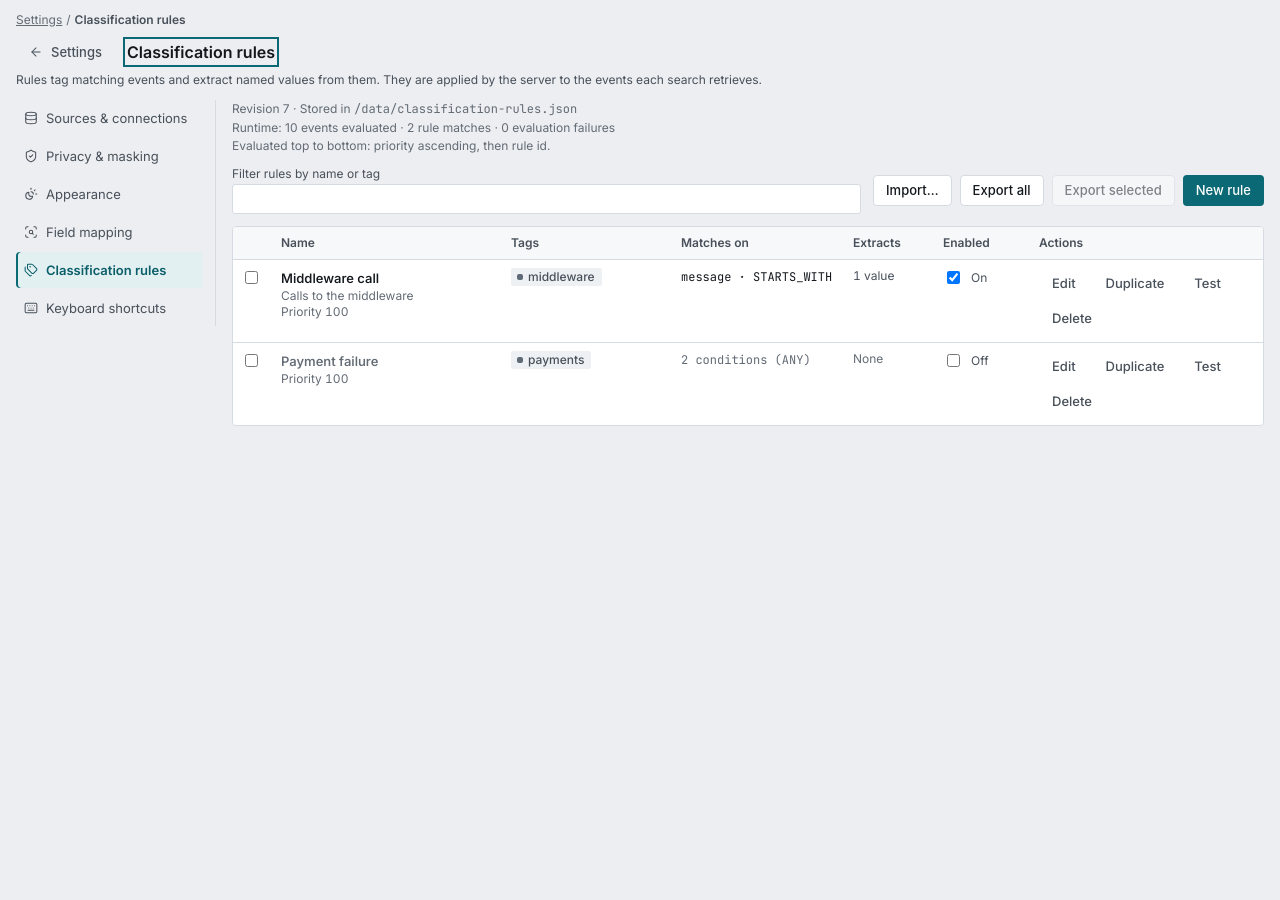
Test: ClassificationRulesWorkspace - list › Duplicate opens the editor prefilled as "Copy of …" without an id, and saving creates a new rule
This screenshot has width=1280, height=900.
Click the button with aria-label "Duplicate Middleware call" at coordinates (1135, 284), box [1093,268,1177,299]
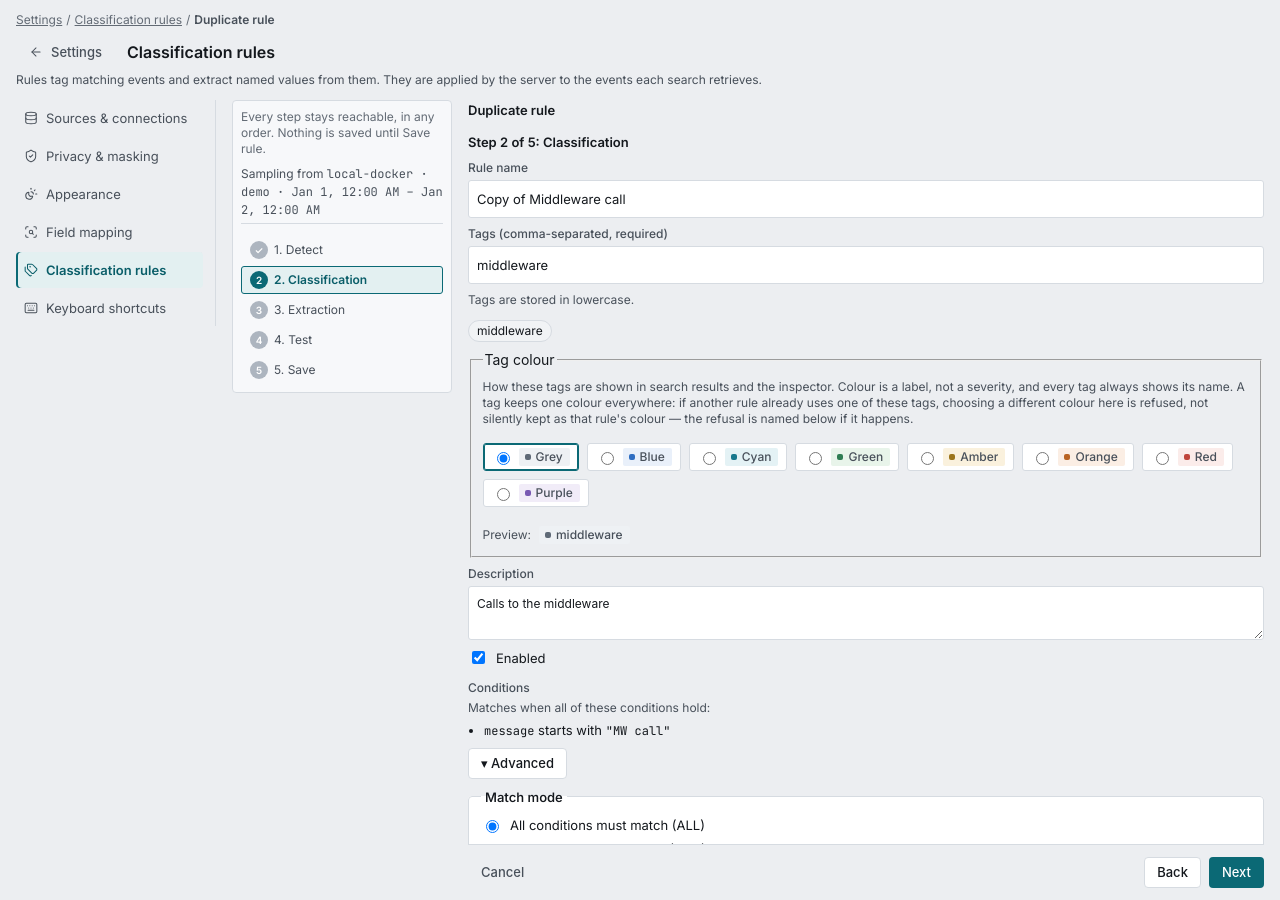
Check: the heading "Duplicate rule" is shown, box [468,102,555,118]
Check: the heading "Step 2 of 5: Classification" is shown, box [468,134,629,150]
Check: the field labelled "Rule name" holds "Copy of Middleware call", box [468,180,1264,218]
Click the button "5 5. Save" at coordinates (342, 370), box [241,356,443,384]
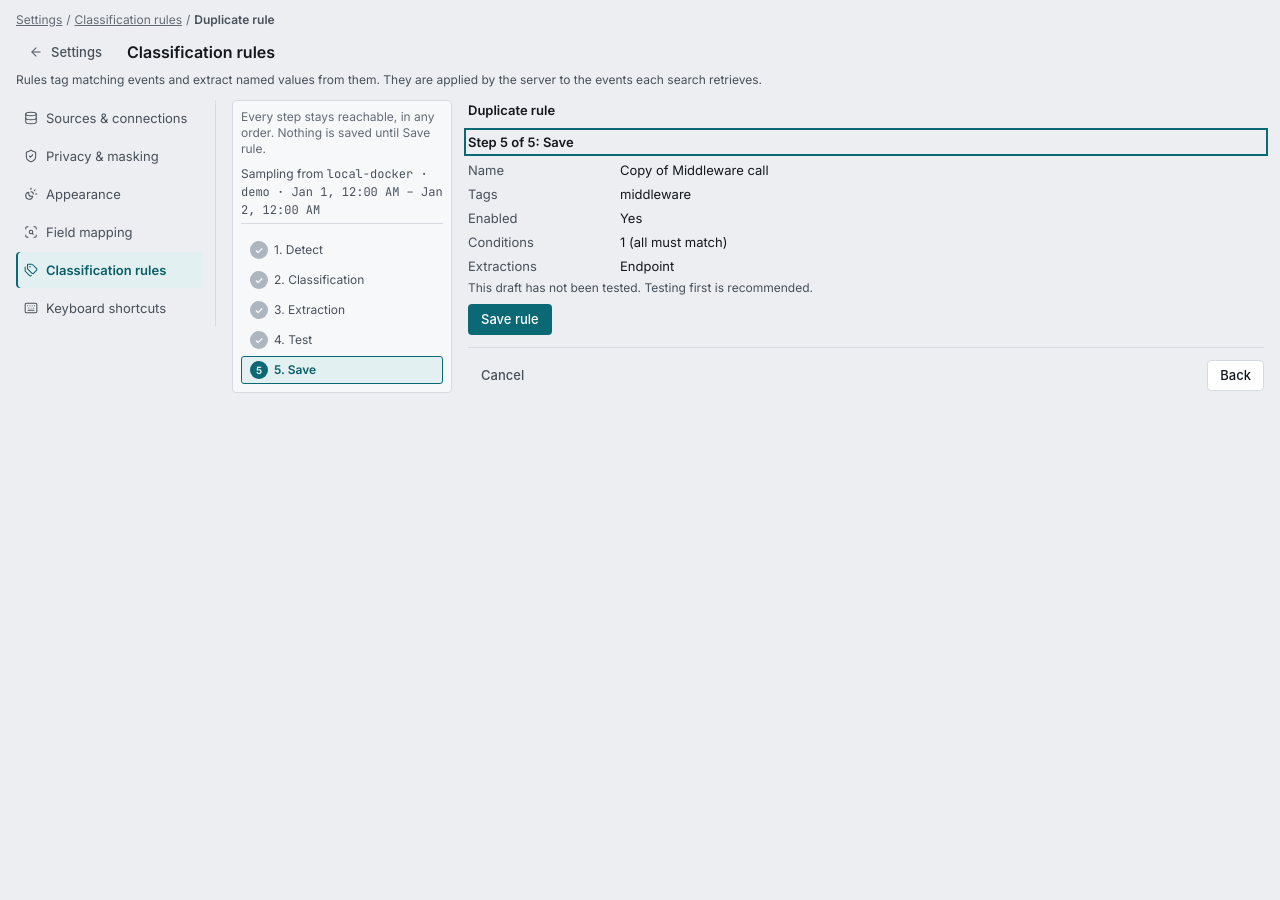
Click the button "Save rule" at coordinates (510, 320), box [468,304,552,335]
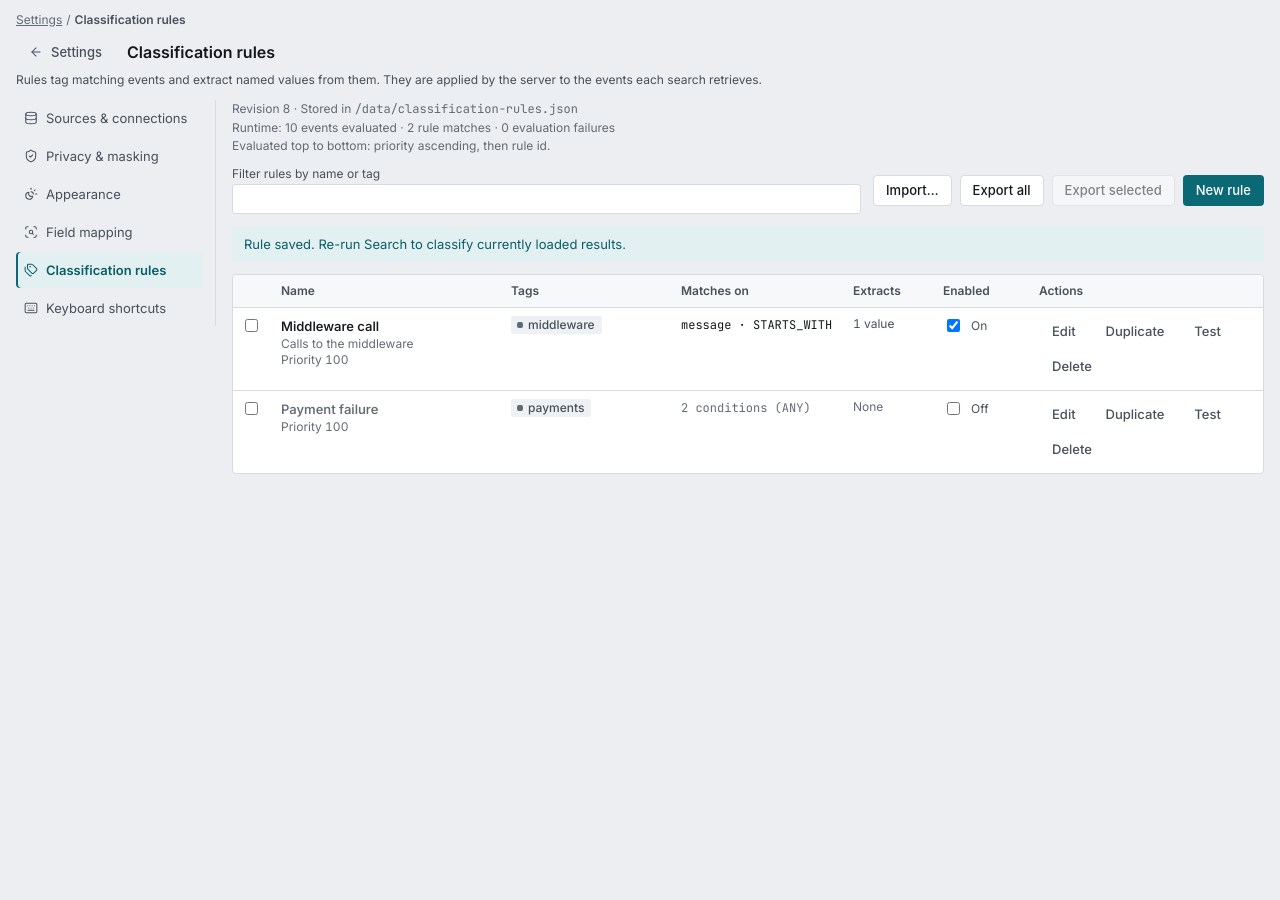
Check: the text "Rule saved. Re-run Search to classify currently loaded results." is shown, box [232,226,1264,262]
